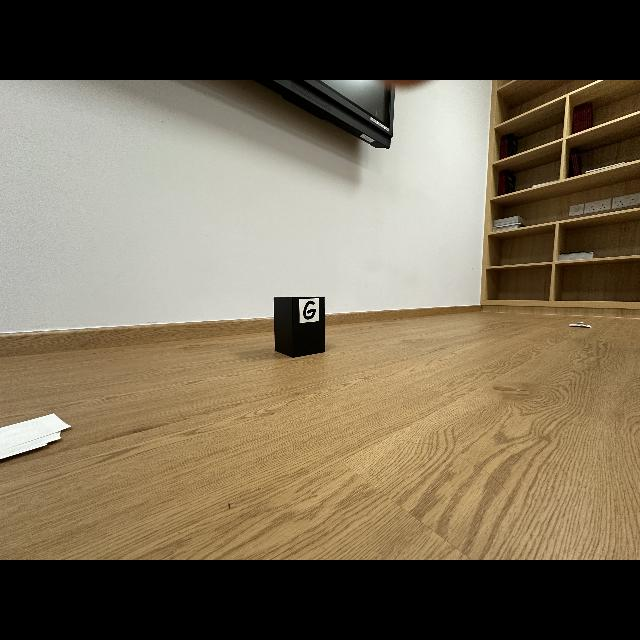G: (303, 300, 316, 320)
